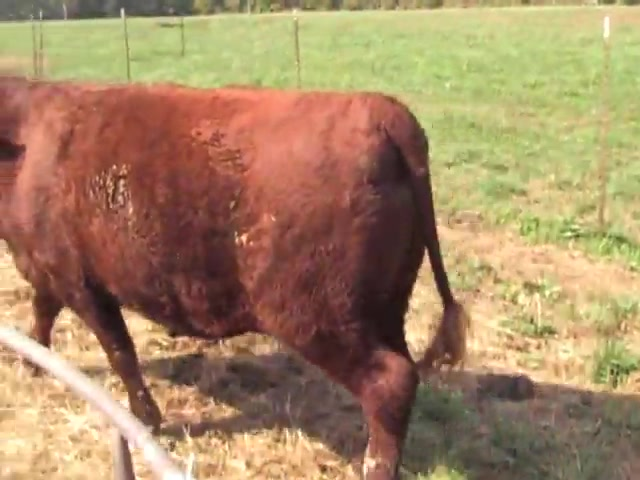cow: (1, 71, 470, 480)
